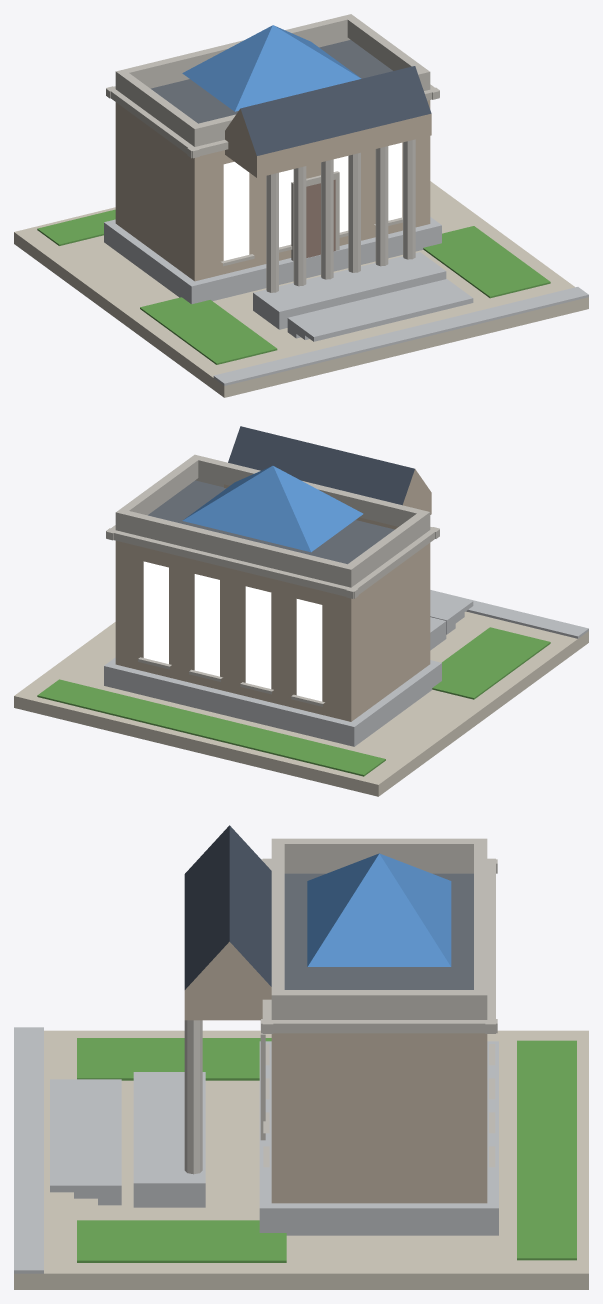
3 views of the same model, one above another, from view 1: azimuth 30°, elevation 25°; view 2: azimuth 150°, elevation 25°; view 3: azimuth 270°, elevation 25° (orthographic). The views are drawn at different scales.
Visible parts, largest first — view 1: b25_v2_lod1; view 2: b25_v2_lod1; view 3: b25_v2_lod1.
Boxes of the visible parts, left/top/right/bottom form: b25_v2_lod1: left=14, top=14, right=588, bottom=397; b25_v2_lod1: left=14, top=426, right=588, bottom=796; b25_v2_lod1: left=14, top=825, right=588, bottom=1289.
Size of the model in its own units: 0.96 by 0.58 by 0.96.
